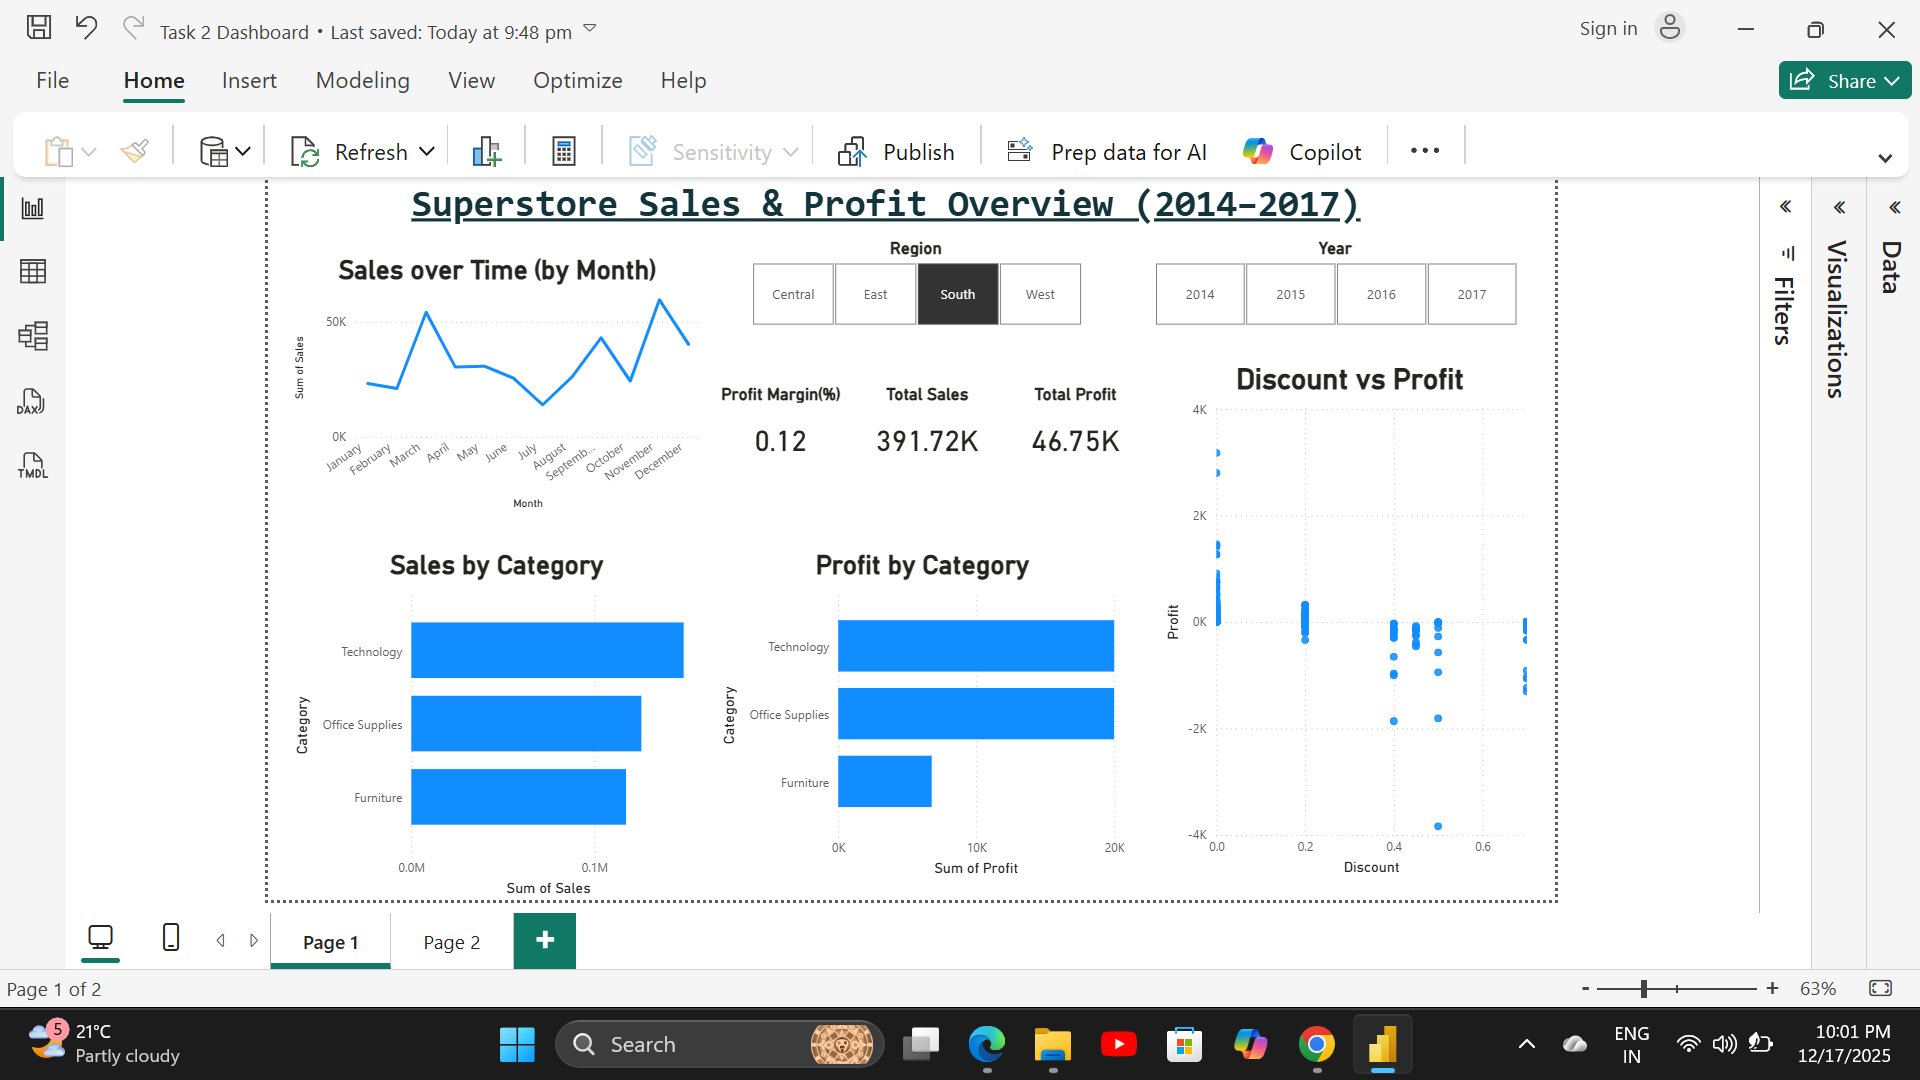

What the dashboard file says about the page in this screenshot:
{"tool":"powerbi","page":{"name":"Page 1","canvas":[1280,720],"ordinal":0},"visuals":[{"type":"card","title":"Total Sales","fields":{"Values":["Sum(Sample - Superstore.Sales)"]},"box":[585.6,206.3,140,90.2],"z":0},{"type":"card","title":"Total Profit","fields":{"Values":["Sum(Sample - Superstore.Profit)"]},"box":[740.3,206.3,125.2,90.2],"z":1000},{"type":"card","title":"Profit Margin(%)","fields":{"Values":["Sample - Superstore.Profit Margin %"]},"box":[434.3,205.7,151.4,91.4],"z":2000},{"type":"slicer","title":"Year","fields":{"Values":["Sample - Superstore.Order Date.Variation.Date Hierarchy.Year"]},"box":[857.1,61.4,408.6,92.9],"z":3000},{"type":"slicer","title":"Region","fields":{"Values":["Sample - Superstore.Region"]},"box":[457.1,60,375.7,92.9],"z":4000},{"type":"lineChart","title":"Sales over Time (by Month)","fields":{"Y":["Sum(Sample - Superstore.Sales)"],"Category":["Sample - Superstore.Order Date.Variation.Date Hierarchy.Month"]},"box":[20,77.1,414.3,258.6],"z":5000},{"type":"clusteredBarChart","title":"Sales by Category","fields":{"Category":["Sample - Superstore.Category"],"Y":["Sum(Sample - Superstore.Sales)"]},"box":[20,370,414,350],"z":6000},{"type":"clusteredBarChart","title":"Profit by Category","fields":{"Category":["Sample - Superstore.Category"],"Y":["Sum(Sample - Superstore.Profit)"]},"box":[445.7,370,411.4,330],"z":7000},{"type":"textbox","box":[104,0,1022,60],"z":8000},{"type":"scatterChart","title":"Discount vs Profit","fields":{"X":["Sample - Superstore.Discount"],"Y":["Sample - Superstore.Profit"]},"box":[887.7,184.2,377.5,515.7],"z":9000}]}

Visuals, with their boxes on the page's 1280x720 design canvas (x1, y1, x2, y2). These are canvas units, not pixel positions in the 1920x1080 screenshot, which may show the page scaled, cropped or inside an application window:
"Total Sales" card: box=[586, 206, 726, 296]
"Total Profit" card: box=[740, 206, 866, 296]
"Profit Margin(%)" card: box=[434, 206, 586, 297]
"Year" slicer: box=[857, 61, 1266, 154]
"Region" slicer: box=[457, 60, 833, 153]
"Sales over Time (by Month)" lineChart: box=[20, 77, 434, 336]
"Sales by Category" clusteredBarChart: box=[20, 370, 434, 720]
"Profit by Category" clusteredBarChart: box=[446, 370, 857, 700]
textbox: box=[104, 0, 1126, 60]
"Discount vs Profit" scatterChart: box=[888, 184, 1265, 700]
